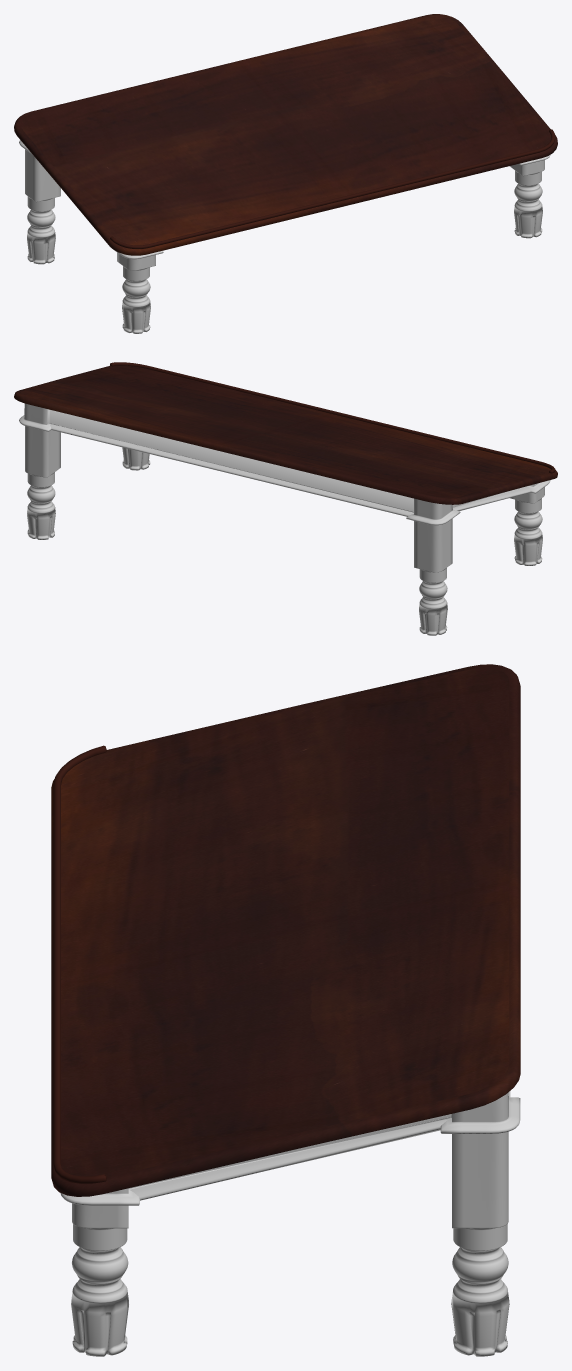
The model's file is tarot_table.fbx.
3 renders of one model, top to bottom at view 1: azimuth 30°, elevation 25°; view 2: azimuth 150°, elevation 25°; view 3: azimuth 270°, elevation 25°, orthographic. The views are drawn at different scales.
Parts seen in each view (by area): view 1: Table Top, Legs and Rails, Table Top.001; view 2: Table Top, Legs and Rails, Table Top.001; view 3: Table Top, Legs and Rails, Table Top.001.
Part boxes in pixels (x1,y1,x2,y2): Table Top: [14, 14, 557, 255]; Legs and Rails: [19, 140, 550, 333]; Table Top.001: [110, 129, 555, 248]; Table Top: [14, 365, 557, 504]; Legs and Rails: [19, 403, 550, 635]; Table Top.001: [110, 362, 555, 473]; Table Top: [51, 664, 520, 1196]; Legs and Rails: [60, 1091, 520, 1356]; Table Top.001: [53, 745, 106, 1183].
Bounding box in the file's own units: 1431 × 433 × 653.
